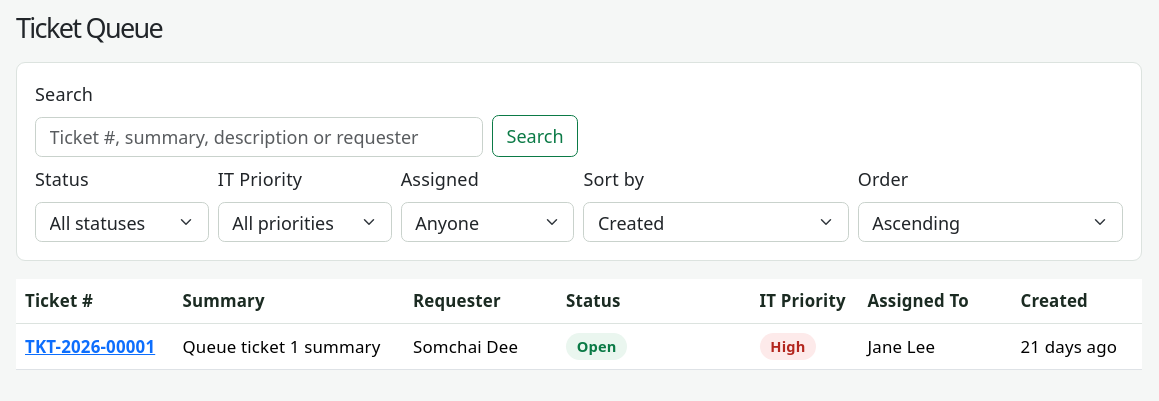
Test: StaffTicketQueue (UI-03) › shows a visually distinct no-results state with Clear filters once a search matches nothing
Expected: the table is shown, [16,279,1142,370]
Type "nothing matches this" into the search field labelled "Search" at (259, 137), box [35,117,483,157]
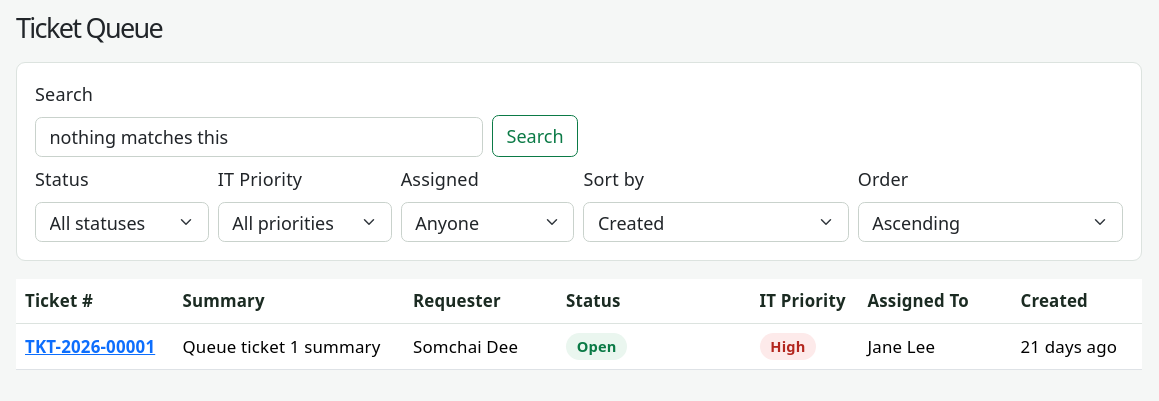
Click the button "Search" at (535, 136), box [492,115,578,157]
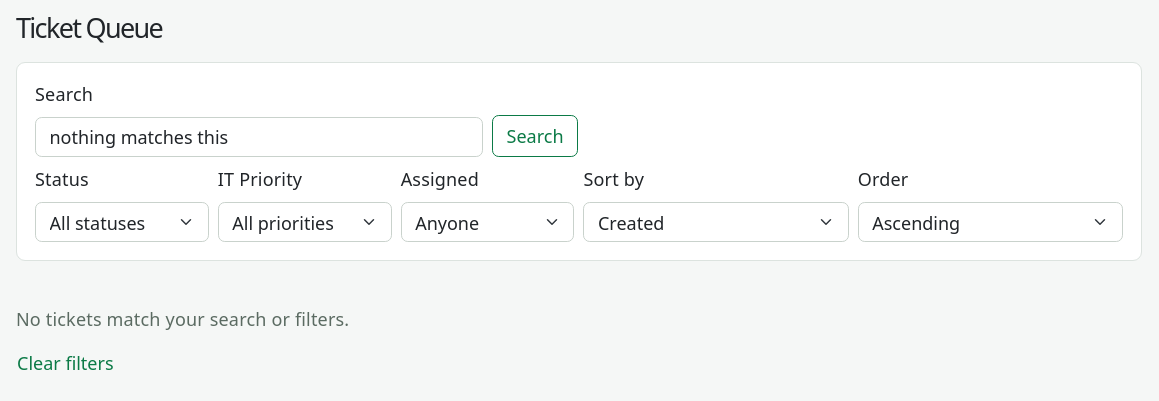
Expected: the text "No tickets match your search or filters." is shown, [16,307,349,331]
Expected: the element with class "tt-no-results" is shown, [16,307,349,385]
Expected: the button "Clear filters" is shown, [16,342,115,385]
